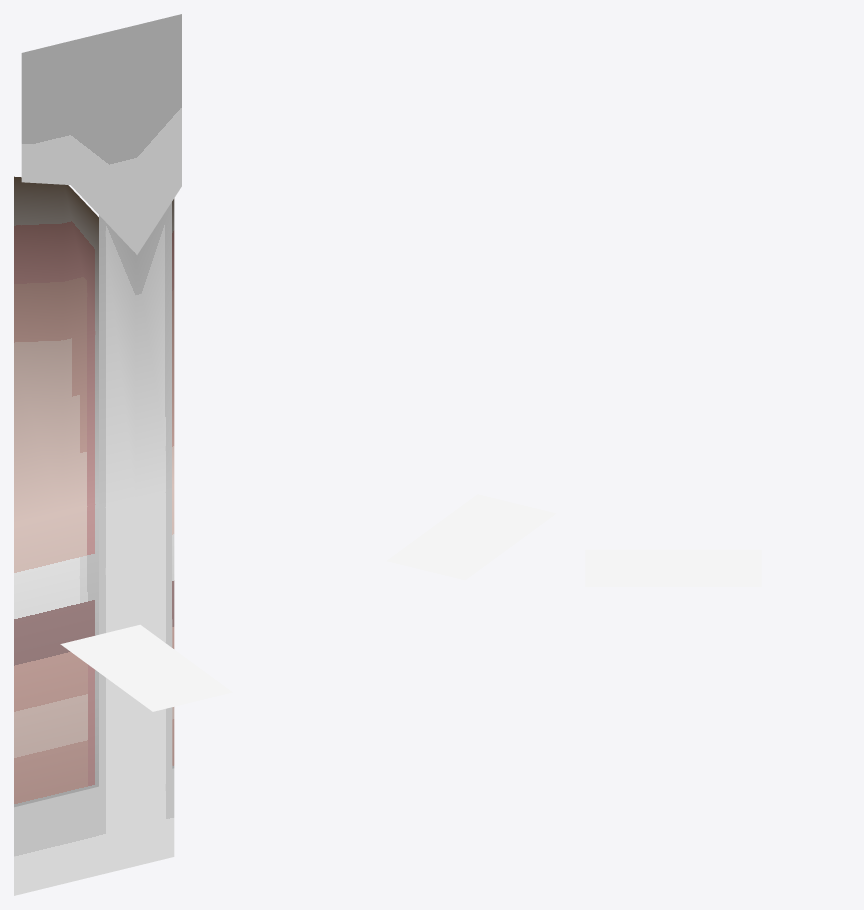
The picture shows the model from 3 angles, left to right: view 1: azimuth 30°, elevation 25°; view 2: azimuth 150°, elevation 25°; view 3: azimuth 270°, elevation 25°; orthographic projection. The views are drawn at different scales.
Size of the model in its own units: 1 by 5.06 by 1.5.
Materials: 2 (2 with a texture image).
